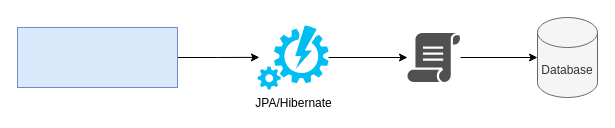
Some shapes in this 615 by 128 pixel diagram are drawn without their labels. Each missing label, with the centre of its shape:
SQL: point (433, 57)
Your Java APP: point (97, 57)
